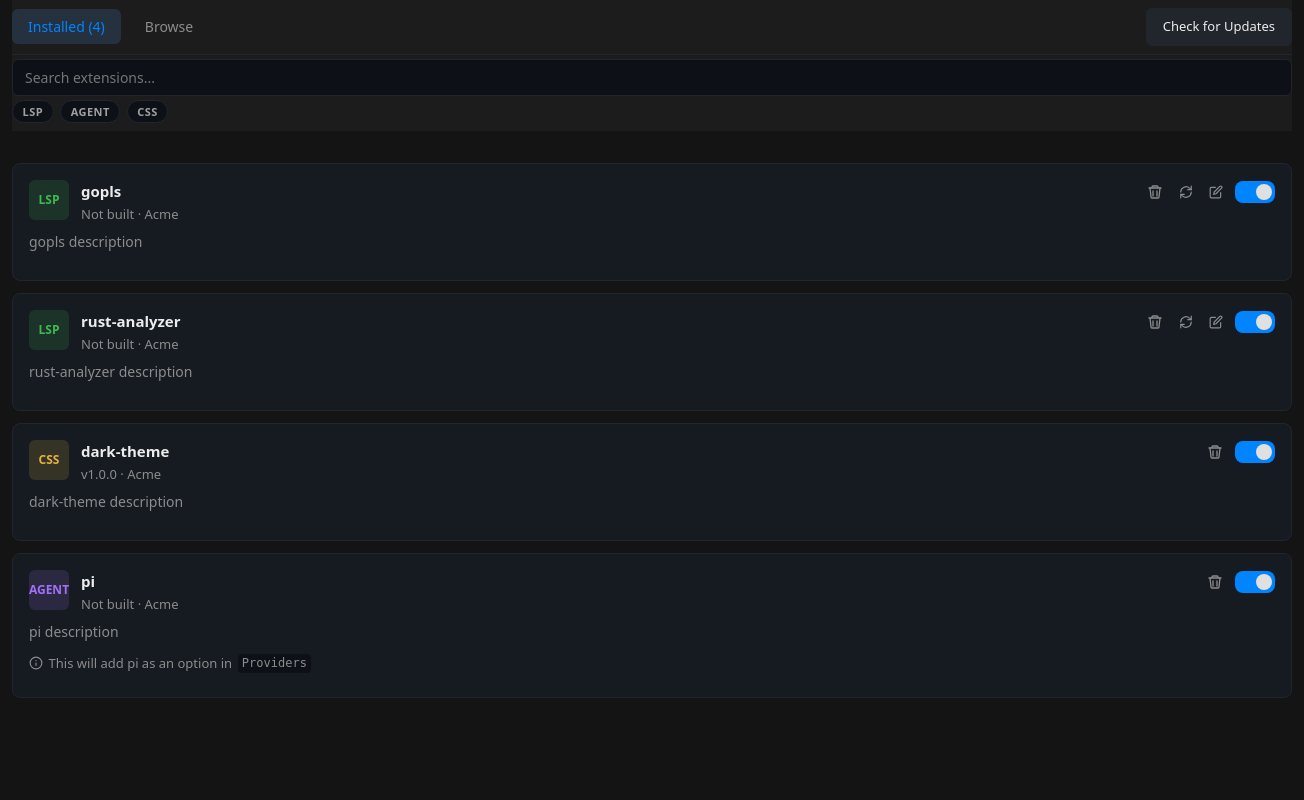
Test: the category row › restores the whole list when the same badge is clicked again
Expected: the text "gopls" is shown, x1=81 y1=180 x2=121 y2=202
Click the button with class "category-badge" showing "LSP" at (33, 111), box x1=12 y1=100 x2=54 y2=123
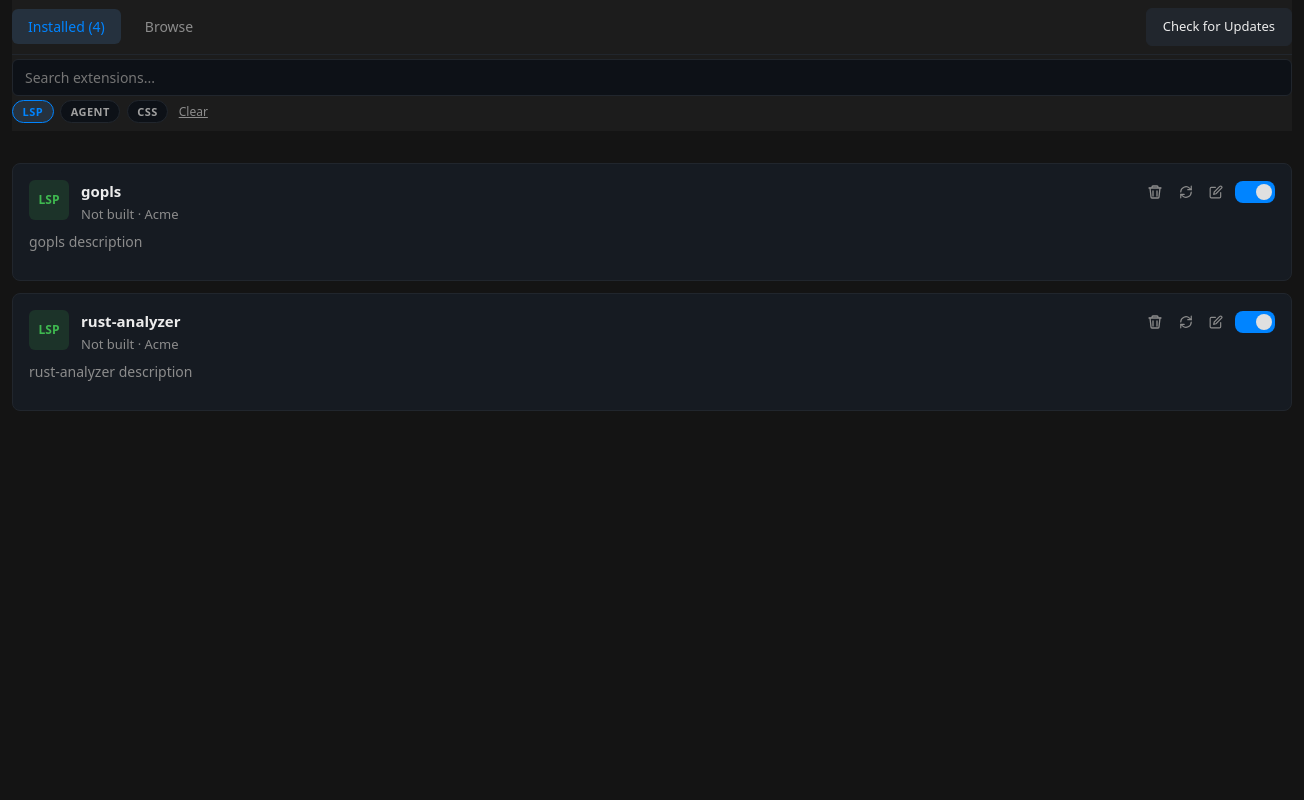
Click the button with class "category-badge" showing "LSP" at (33, 111), box x1=12 y1=100 x2=54 y2=123
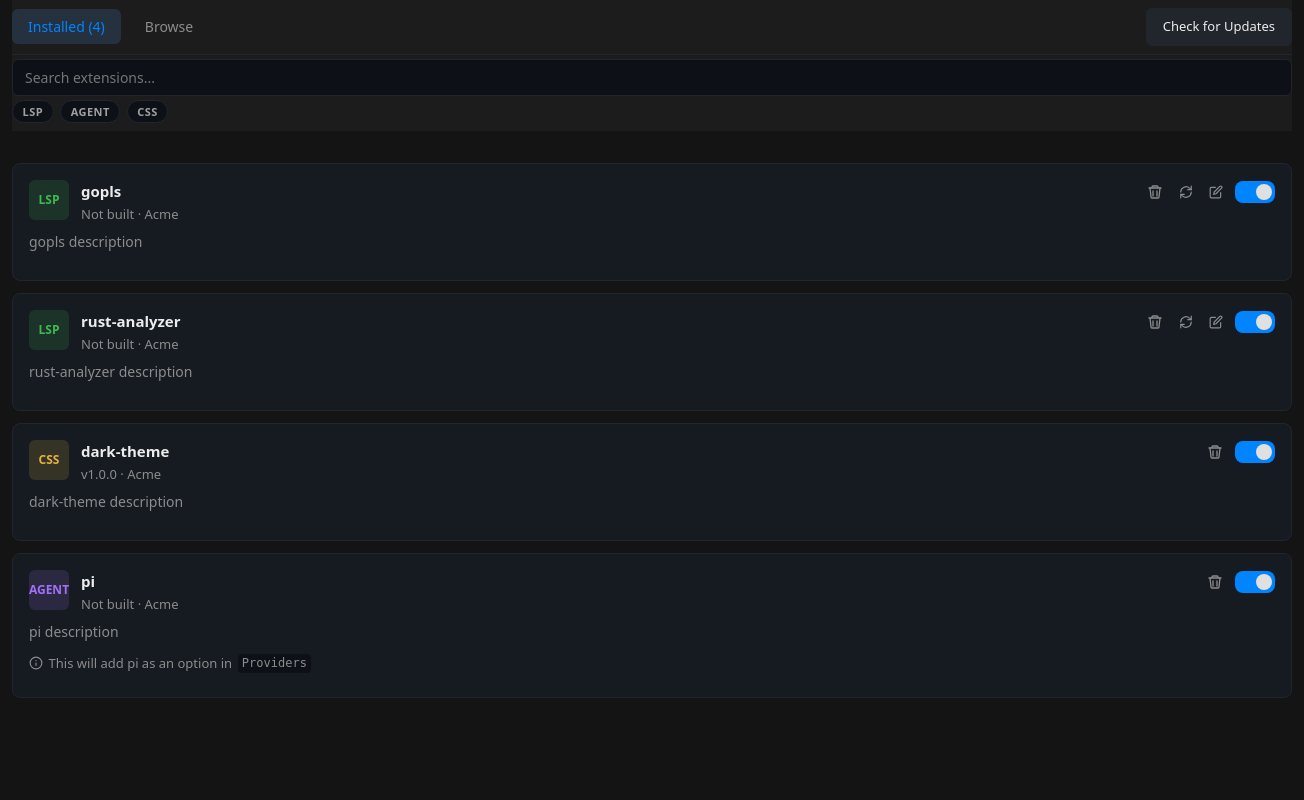
Now the button with class "category-clear" is gone
